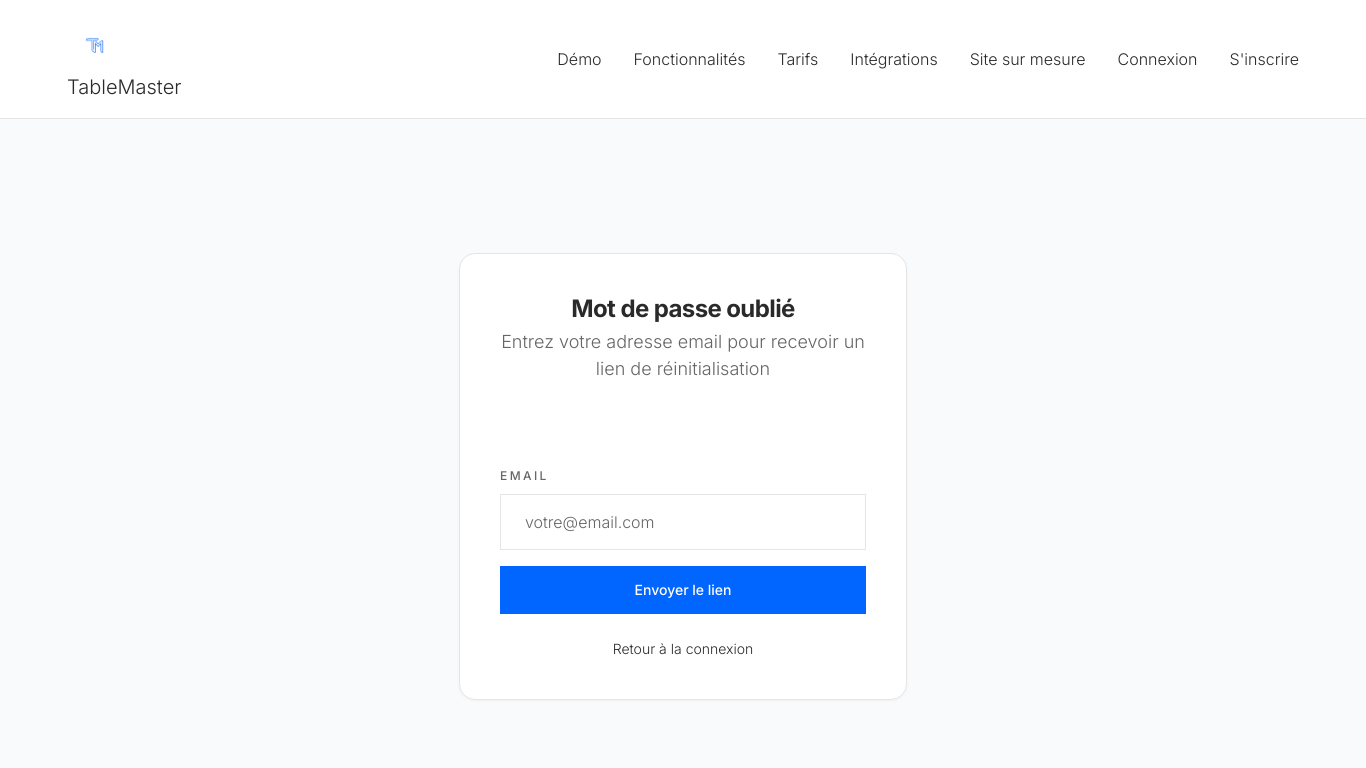
Test: Forgot Password Page › should display error on failed submission
Type "test@example.com" into the field with placeholder "votre@email.com" at (683, 522), box [500,494,866,550]
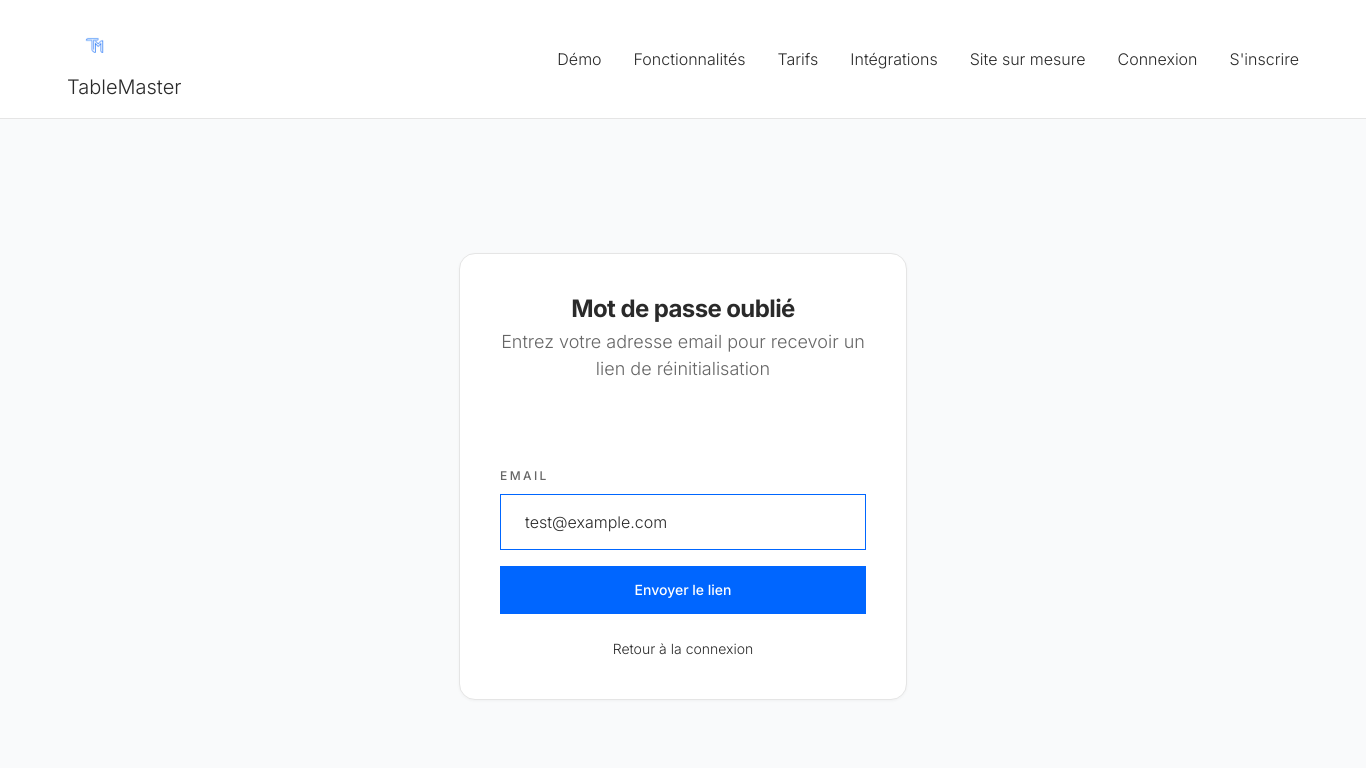
Submit the form with test id "forgot-password-form", box [500,462,866,614]
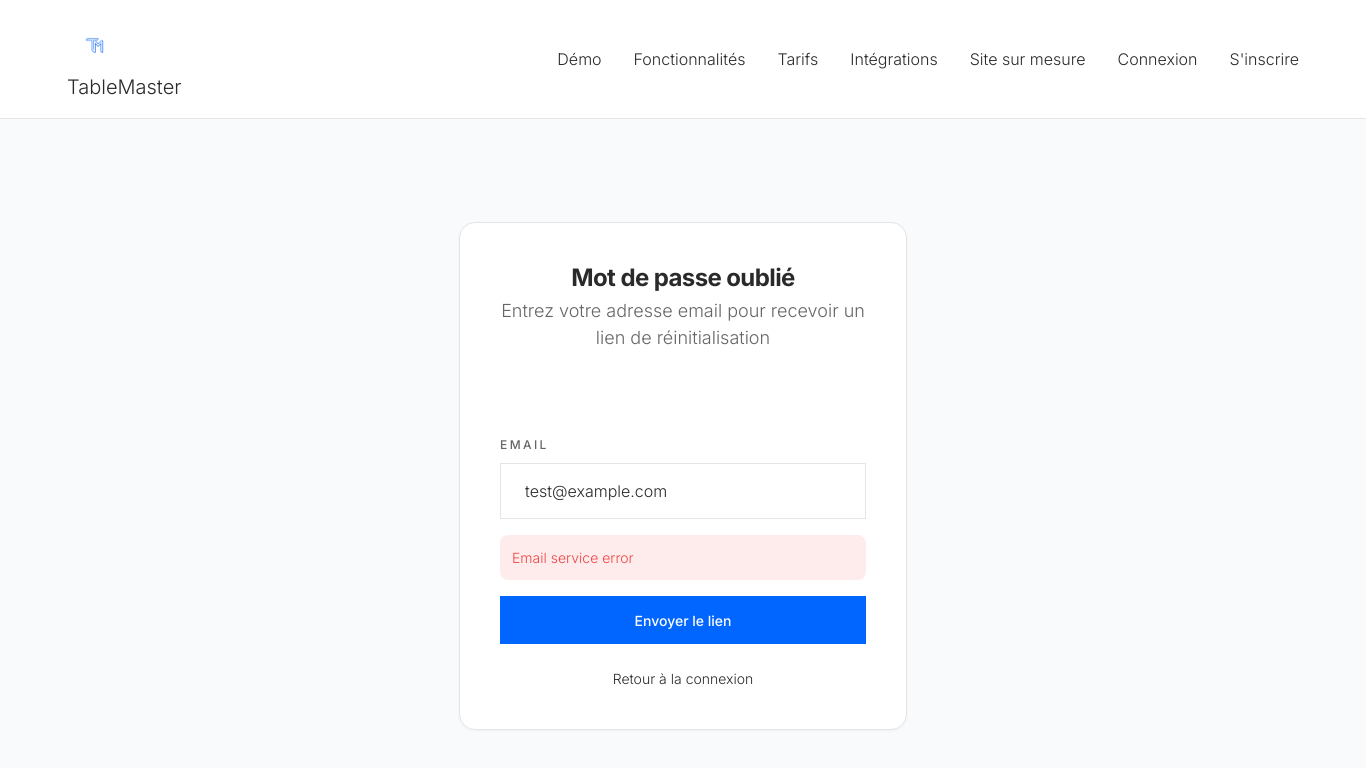
Result: the text "Email service error" is shown at [500,535,866,580]
